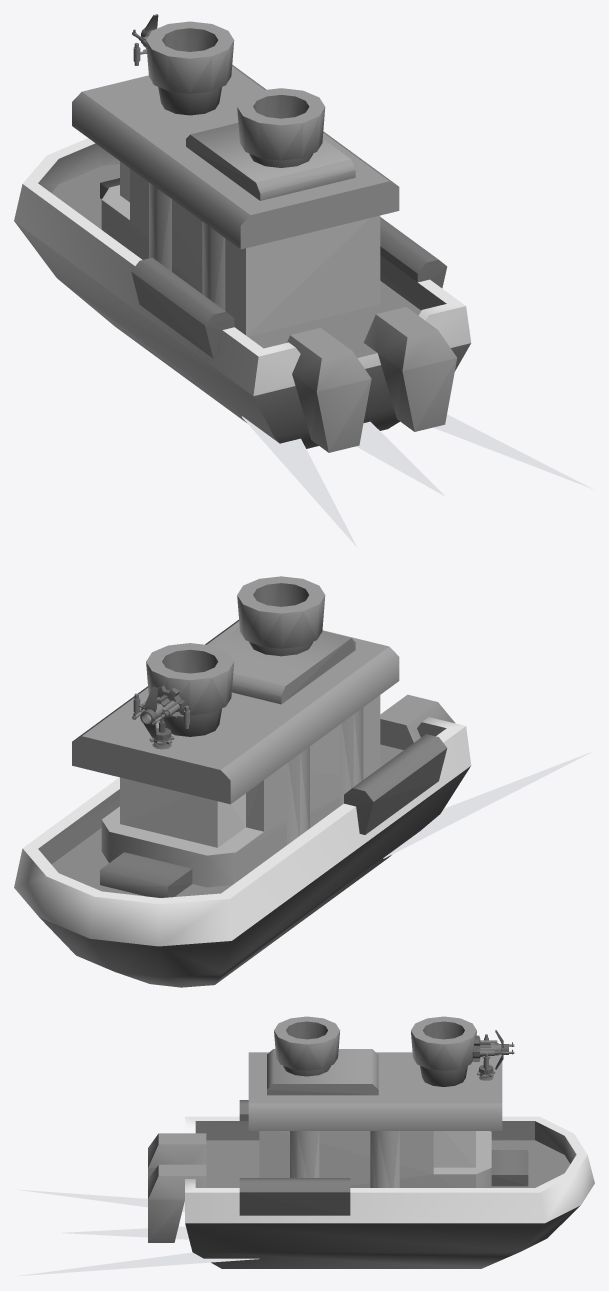
The model's file is relay_mast.glb.
The picture shows the model from 3 angles, top to bottom: view 1: azimuth 30°, elevation 25°; view 2: azimuth 150°, elevation 25°; view 3: azimuth 270°, elevation 25°; orthographic projection. The views are drawn at different scales.
Visible parts, largest first — view 1: Body, Wake; view 2: Body, Turret, Wake; view 3: Body, Wake, Turret.
Part boxes in pixels (x1=…): Body: x1=14, y1=21, x2=471, y2=452; Wake: x1=242, y1=414, x2=593, y2=546; Body: x1=14, y1=576, x2=471, y2=987; Turret: x1=132, y1=685, x2=189, y2=749; Wake: x1=383, y1=751, x2=593, y2=858; Body: x1=148, y1=1016, x2=594, y2=1268; Wake: x1=17, y1=1189, x2=259, y2=1276; Turret: x1=472, y1=1030, x2=514, y2=1080.
Size of the model in its own units: 10.35 by 11.95 by 28.6.
Materials: 3 (1 with a texture image).
